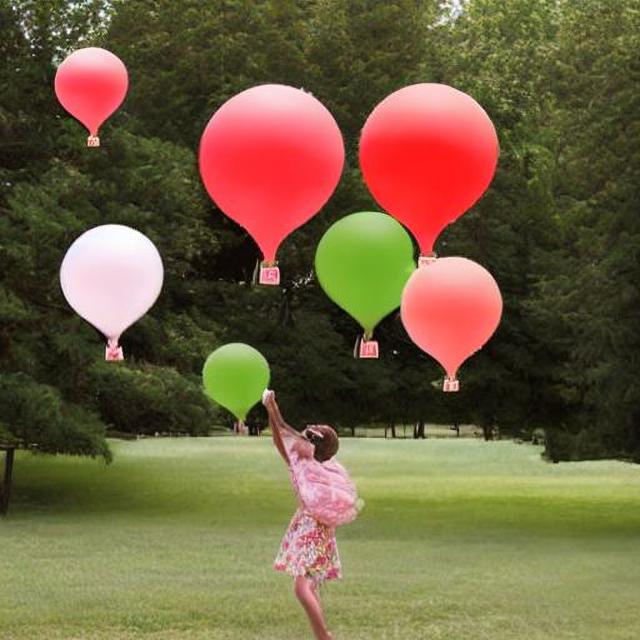balloon: (191, 82, 356, 282), (350, 81, 498, 290), (42, 210, 171, 364), (302, 210, 431, 346), (392, 252, 502, 400), (48, 45, 128, 146), (197, 336, 270, 428)
floating object: (50, 45, 131, 147)
